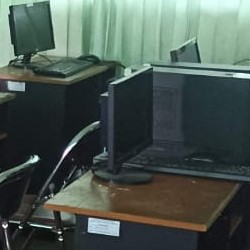monitor: (122, 62, 250, 183), (107, 65, 154, 175), (8, 1, 56, 57)
